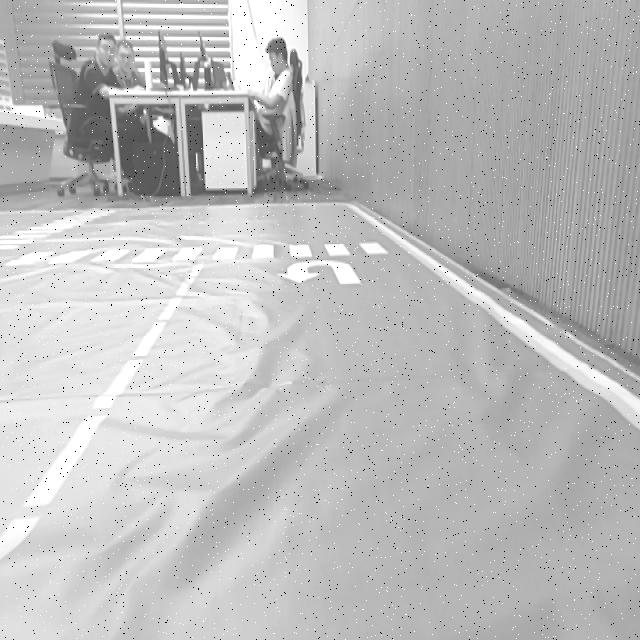left_lane: (0, 261, 206, 563)
right_lane: (366, 220, 640, 432)
